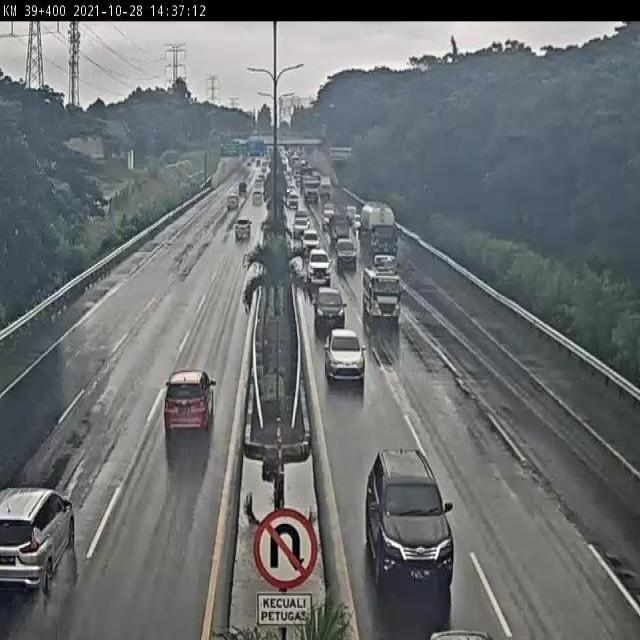big truck: (358, 201, 397, 263)
car: (363, 441, 458, 591), (0, 483, 81, 593), (160, 362, 222, 446), (320, 327, 377, 382), (429, 612, 500, 640), (312, 286, 346, 326), (369, 250, 416, 278), (305, 247, 330, 284), (334, 238, 356, 270), (232, 216, 254, 244), (298, 228, 321, 253), (222, 194, 240, 214), (252, 189, 266, 208), (236, 183, 250, 196)
small truck: (362, 267, 402, 328), (329, 217, 349, 247)
